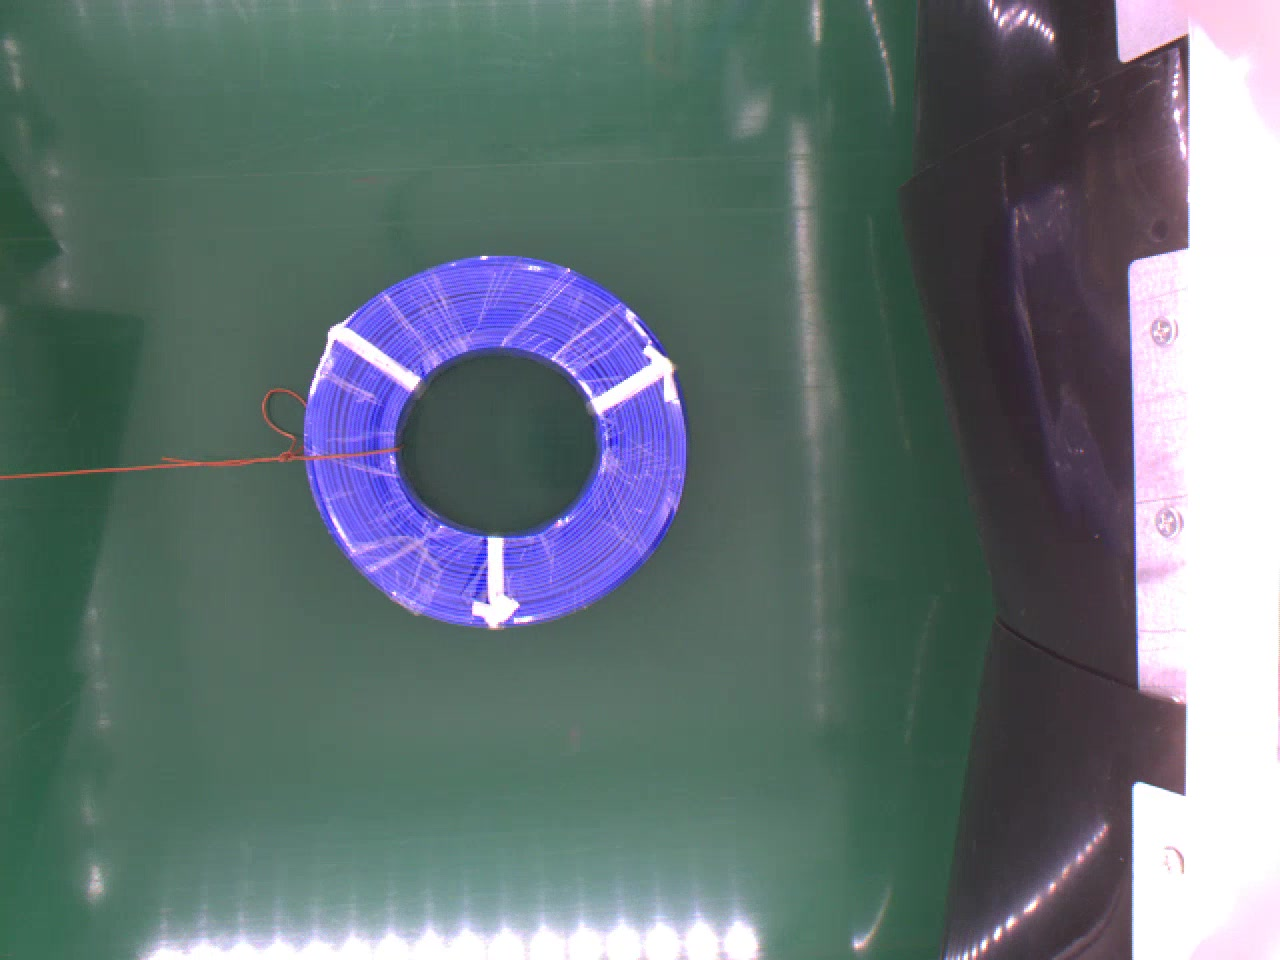blue: (300, 253, 689, 627)
